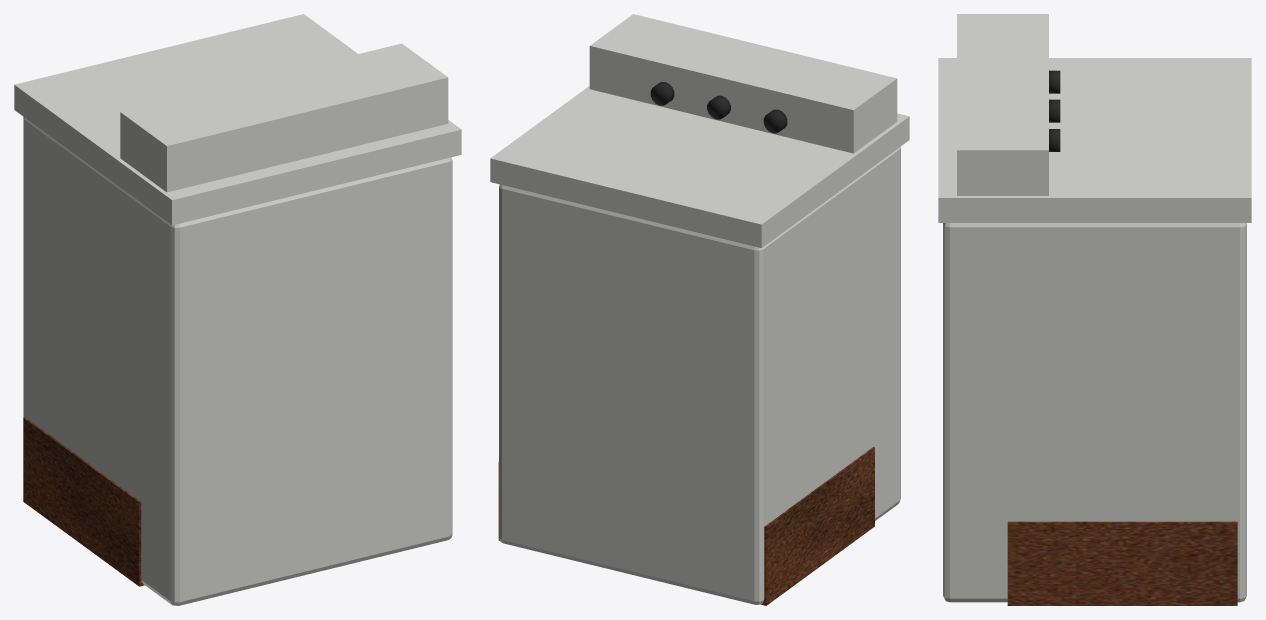
File: WK_PRP_WashingMachine.glb
3 views of the same model, side by side, from view 1: azimuth 30°, elevation 25°; view 2: azimuth 150°, elevation 25°; view 3: azimuth 270°, elevation 25° (orthographic). The views are drawn at different scales.
Visible parts, largest first — view 1: WK_PRP_WashingMachine_P01, WK_PRP_WashingMachine_P02, WK_PRP_WashingMachine_P03, WK_PRP_WashingMachine_P07; view 2: WK_PRP_WashingMachine_P01, WK_PRP_WashingMachine_P02, WK_PRP_WashingMachine_P03, WK_PRP_WashingMachine_P07; view 3: WK_PRP_WashingMachine_P01, WK_PRP_WashingMachine_P02, WK_PRP_WashingMachine_P07, WK_PRP_WashingMachine_P03.
Boxes of the visible parts, x1=… form: WK_PRP_WashingMachine_P01: x1=23, y1=117, x2=452, y2=605; WK_PRP_WashingMachine_P02: x1=14, y1=14, x2=461, y2=225; WK_PRP_WashingMachine_P03: x1=120, y1=43, x2=448, y2=192; WK_PRP_WashingMachine_P07: x1=23, y1=417, x2=144, y2=586; WK_PRP_WashingMachine_P01: x1=499, y1=146, x2=900, y2=604; WK_PRP_WashingMachine_P02: x1=490, y1=86, x2=909, y2=248; WK_PRP_WashingMachine_P03: x1=589, y1=14, x2=897, y2=153; WK_PRP_WashingMachine_P07: x1=498, y1=447, x2=874, y2=605; WK_PRP_WashingMachine_P01: x1=943, y1=223, x2=1246, y2=602; WK_PRP_WashingMachine_P02: x1=938, y1=58, x2=1251, y2=222; WK_PRP_WashingMachine_P07: x1=1007, y1=521, x2=1237, y2=605; WK_PRP_WashingMachine_P03: x1=957, y1=14, x2=1048, y2=195.
Bounding box in the file's own units: 0.72 × 1.09 × 0.68.
3 materials, 1 textured.
